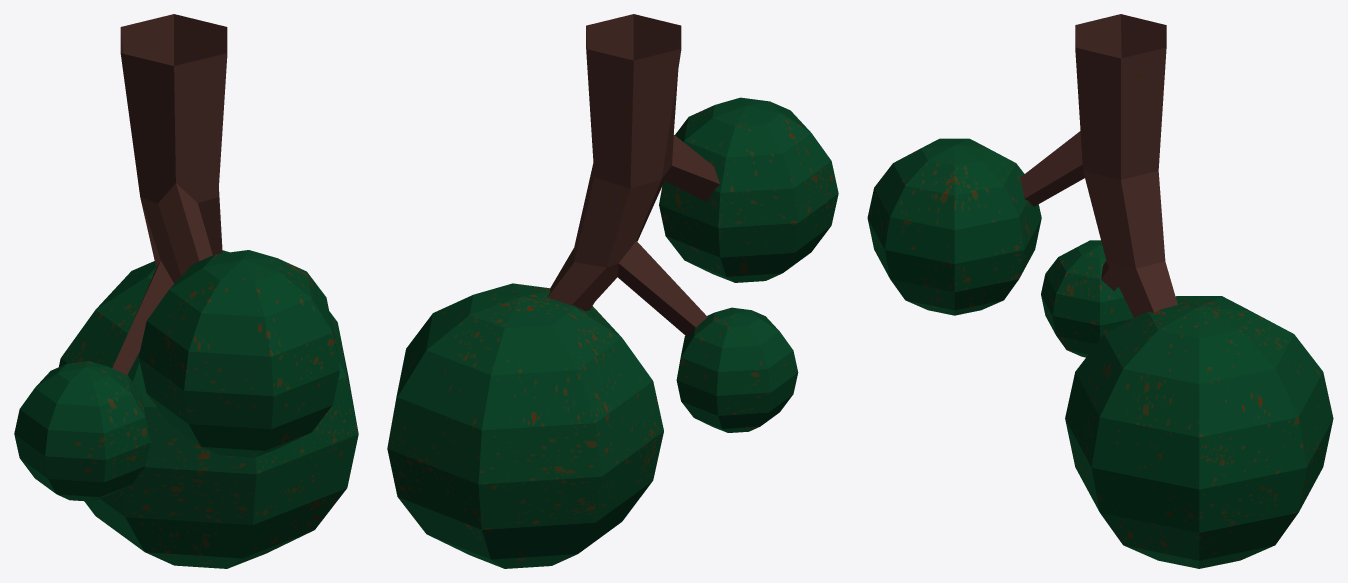
File: TreeFBX.fbx
3 views of the same model, side by side, from view 1: azimuth 30°, elevation 25°; view 2: azimuth 150°, elevation 25°; view 3: azimuth 270°, elevation 25° (orthographic). The views are drawn at different scales.
Parts seen in each view (by area): view 1: Tree; view 2: Tree; view 3: Tree.
Boxes of the visible parts, bbox=[...] form: Tree: bbox=[14, 14, 358, 568]; Tree: bbox=[387, 14, 838, 568]; Tree: bbox=[867, 14, 1333, 568].
Bounding box in the file's own units: 4.31 × 6.21 × 5.4.
